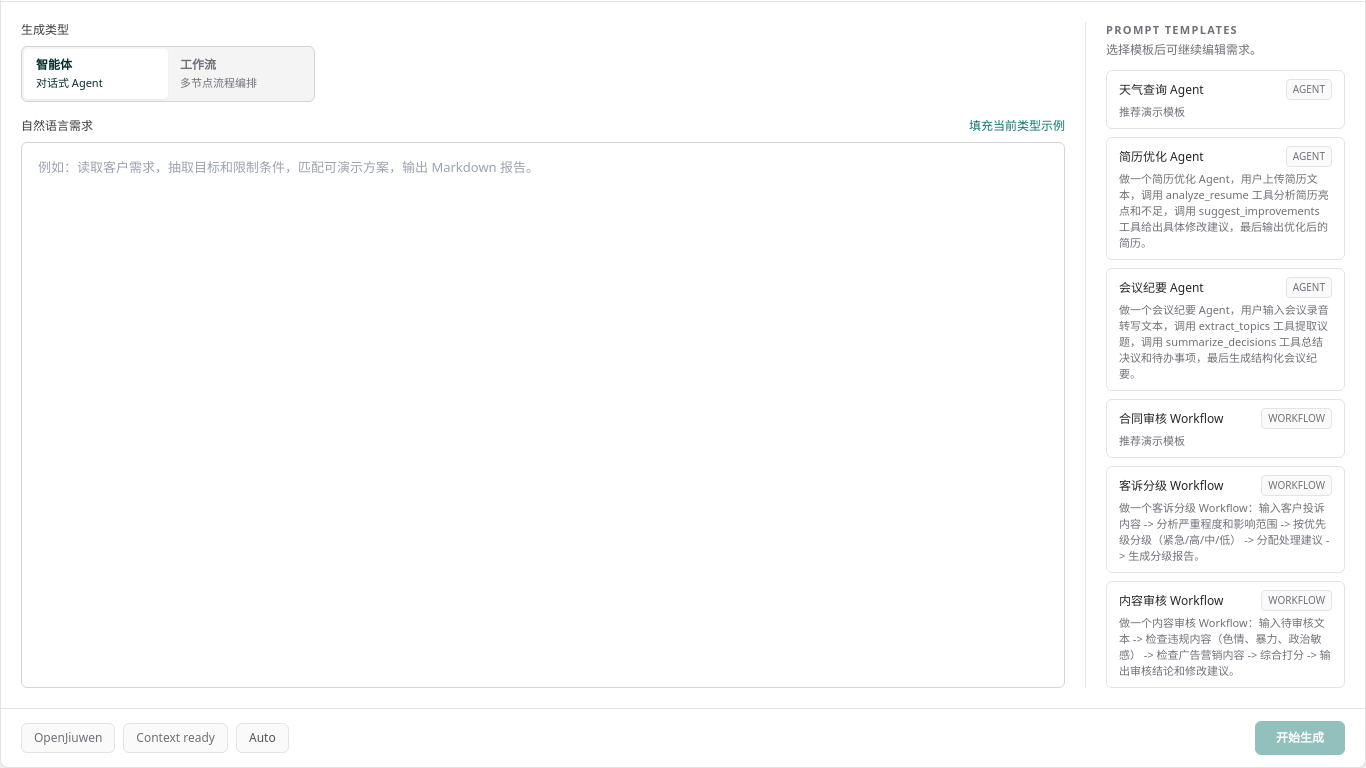
PromptComposer (home page, PRD §6.1) › disables submit until prompt is non-empty
(page scrolled)
Expected: the button with test id "submit-button" is disabled, [1255,721,1345,755]
In the text box with test id "prompt-input": (543, 415) [21,142,1065,688], type "一个塔罗占卜 Agent"
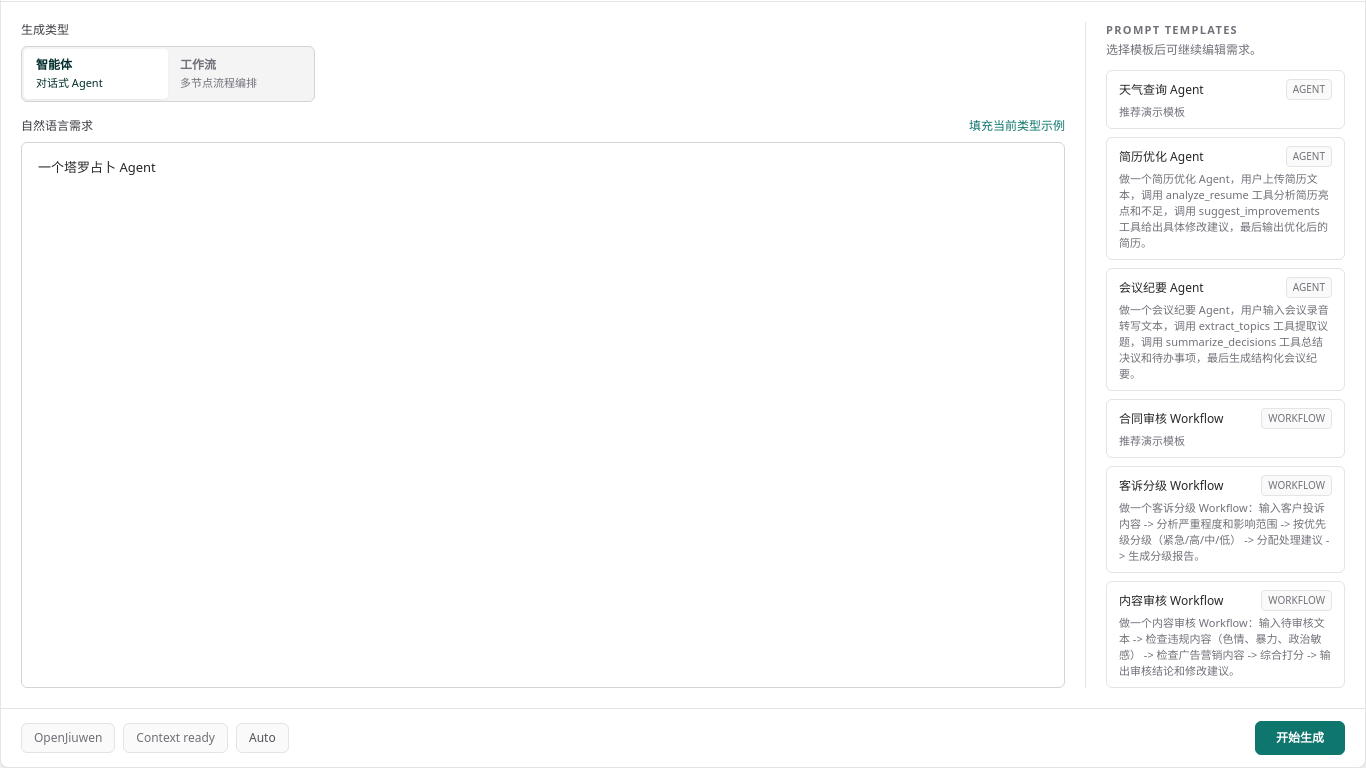
Expected: the button with test id "submit-button" is enabled, [1255,721,1345,755]
